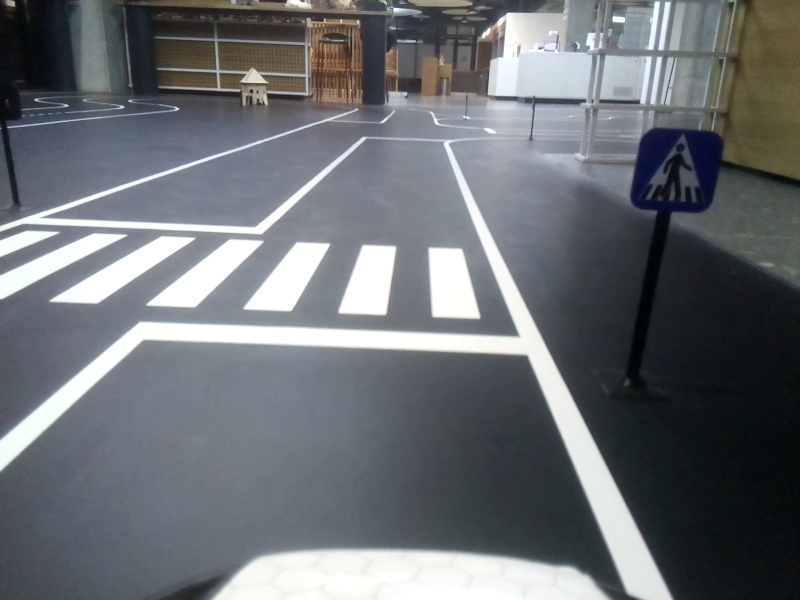pedestrian: (636, 125, 722, 214)
